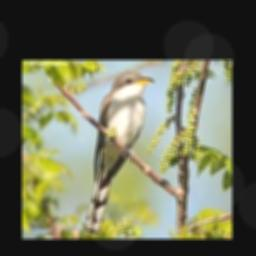Cuckoo: (84, 73, 155, 234)
